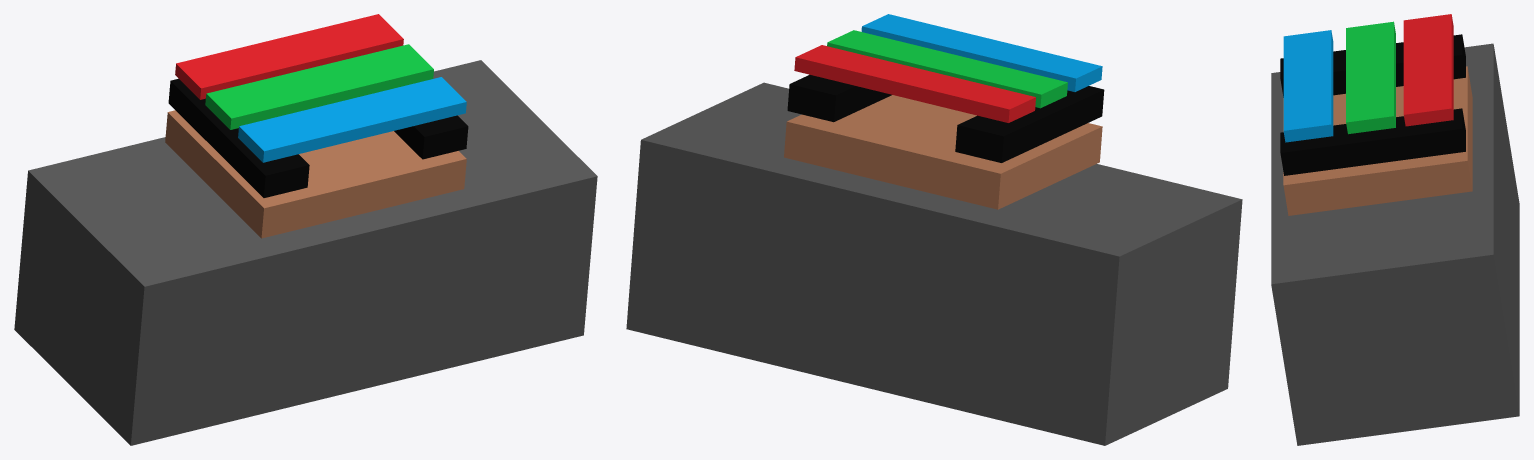
Rendered from bomb.glb.
The picture shows the model from 3 angles, left to right: view 1: azimuth 30°, elevation 25°; view 2: azimuth 150°, elevation 25°; view 3: azimuth 270°, elevation 25°; orthographic projection. The views are drawn at different scales.
Parts seen in each view (by area): view 1: node_id6, node_id9, node_id18, node_id15, node_id12, node_id24, node_id21; view 2: node_id6, node_id9, node_id12, node_id18, node_id24, node_id15, node_id21; view 3: node_id6, node_id9, node_id21, node_id12, node_id18, node_id15, node_id24.
Part boxes in pixels (x1,y1,x2,y2): node_id6: (14, 60, 597, 445); node_id9: (165, 110, 466, 238); node_id18: (238, 77, 466, 162); node_id15: (205, 44, 433, 129); node_id12: (175, 14, 403, 99); node_id24: (168, 78, 309, 197); node_id21: (394, 115, 468, 159); node_id6: (626, 82, 1242, 445); node_id9: (784, 95, 1102, 209); node_id12: (794, 45, 1035, 122); node_id18: (861, 14, 1102, 91); node_id24: (955, 86, 1104, 162); node_id15: (827, 30, 1067, 108); node_id21: (787, 74, 891, 122); node_id6: (1271, 43, 1519, 445); node_id9: (1283, 66, 1472, 215); node_id21: (1280, 108, 1465, 175); node_id12: (1403, 14, 1453, 126); node_id18: (1283, 30, 1333, 142); node_id15: (1346, 21, 1395, 134); node_id24: (1280, 34, 1465, 97).
Bounding box in the file's own units: 0.512 × 0.316 × 0.2548.
7 materials, 7 textured.
